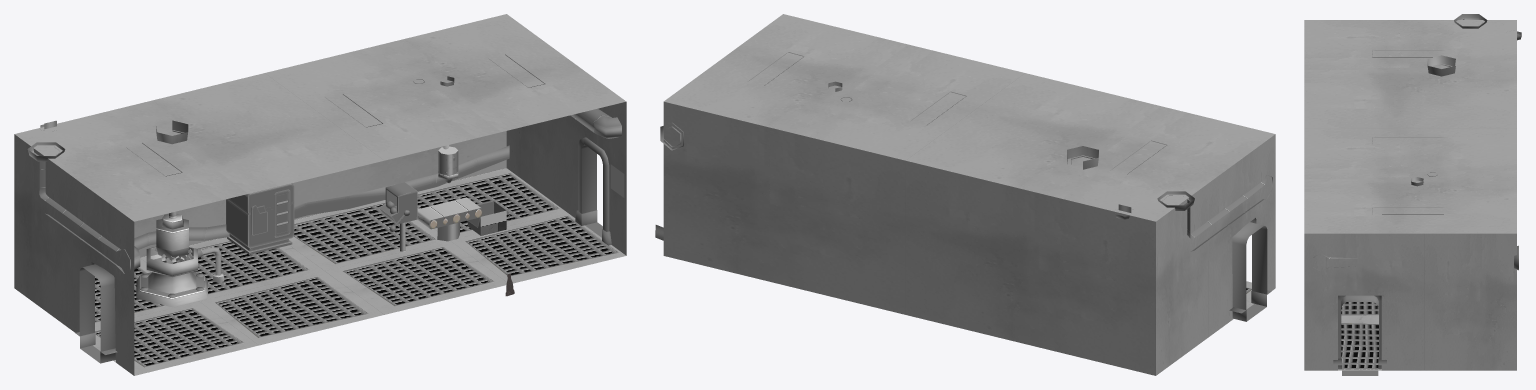
File: MSH_Nuka_room_L1_R2_optimized.fbx
3 views of the same model, side by side, from view 1: azimuth 30°, elevation 25°; view 2: azimuth 150°, elevation 25°; view 3: azimuth 270°, elevation 25° (orthographic). The views are drawn at different scales.
Parts seen in each view (by area): view 1: lightmap1, lightmap0, lightmap-1, MSH_Nuka_room_L1_ani_01 1; view 2: lightmap1, lightmap-1, lightmap0; view 3: lightmap1, lightmap0, lightmap-1.
Part boxes in pixels (x1,y1,x2,y2): lightmap1: (14, 14, 626, 375); lightmap0: (27, 54, 624, 307); lightmap-1: (79, 145, 602, 363); MSH_Nuka_room_L1_ani_01 1: (156, 211, 188, 258); lightmap1: (663, 14, 1275, 375); lightmap-1: (1232, 222, 1267, 321); lightmap0: (655, 52, 1272, 251); lightmap1: (1304, 20, 1516, 370); lightmap0: (1313, 14, 1521, 270); lightmap-1: (1341, 295, 1378, 375).
Bounding box in the file's own units: 20.61 × 6.64 × 8.43.
